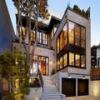stairs: (37, 76, 66, 100)
